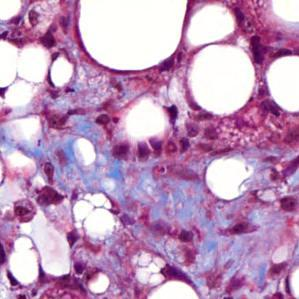steatosis: (185, 44, 256, 116), (50, 56, 79, 88)
